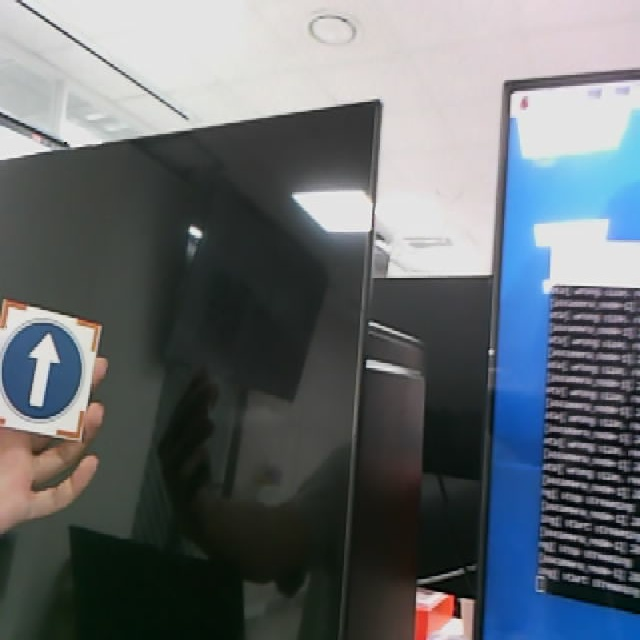strait: (2, 300, 102, 443)
